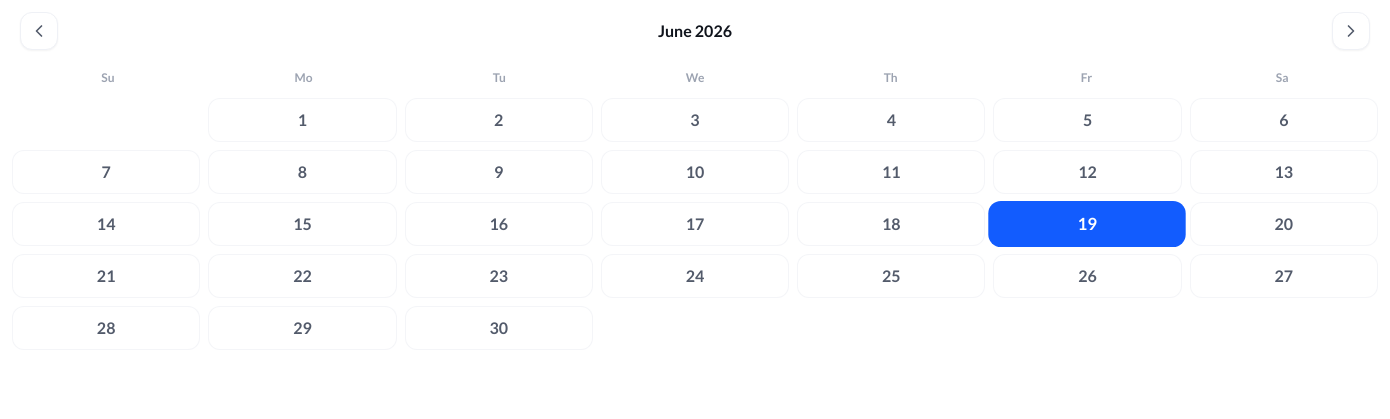
Test: MonthCalendar › crosses a year boundary backwards
The width and height of the screenshot is (1390, 419).
Click the button named "Previous month": (39, 31) [20,12,58,50]
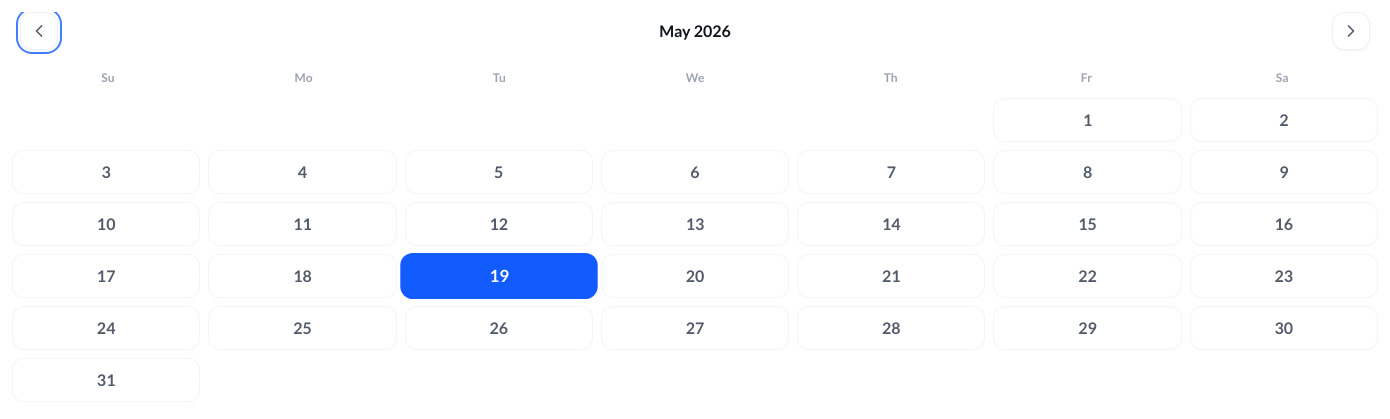
Click the button named "Previous month": (39, 31) [20,12,58,50]
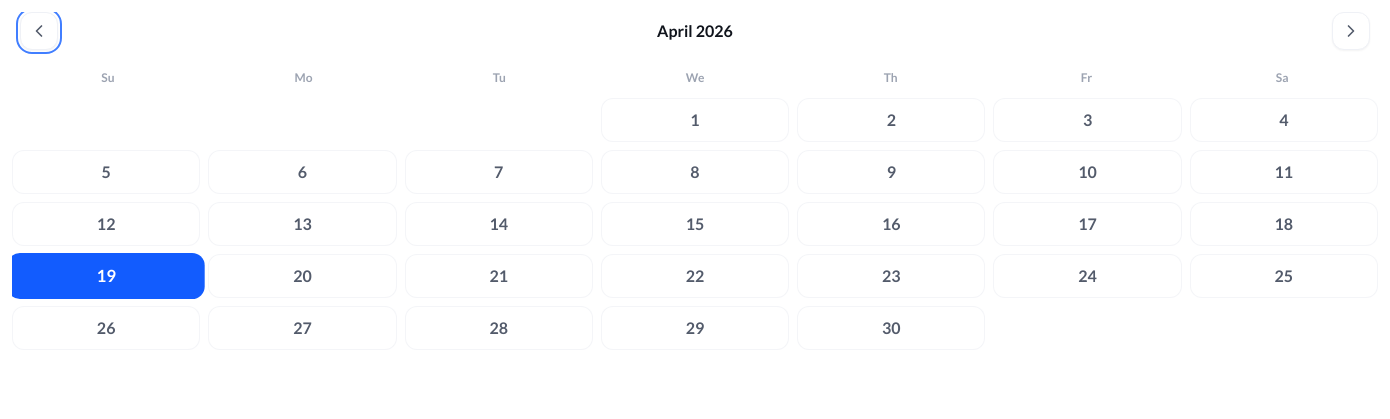
Click the button named "Previous month": (39, 31) [20,12,58,50]
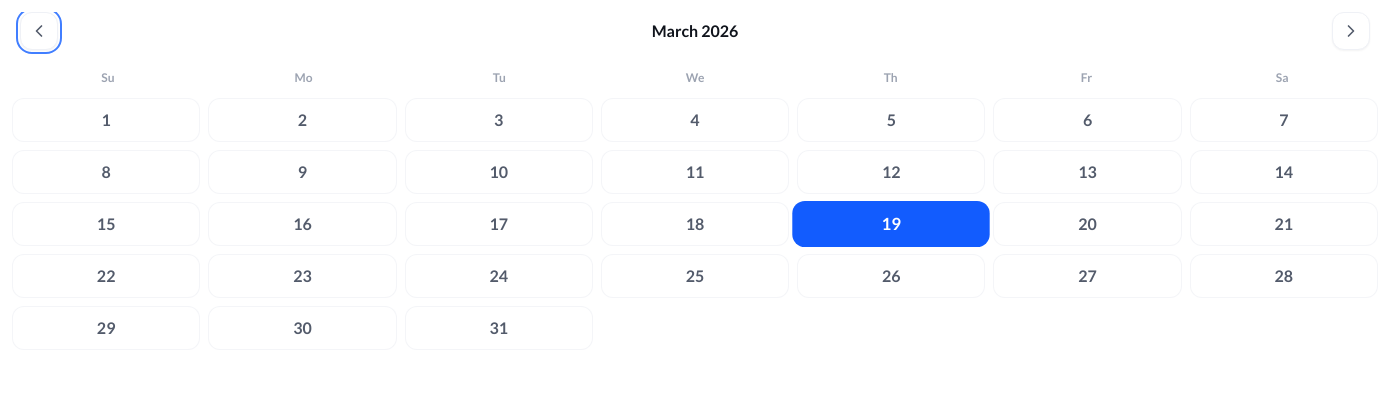
Click the button named "Previous month": (39, 31) [20,12,58,50]
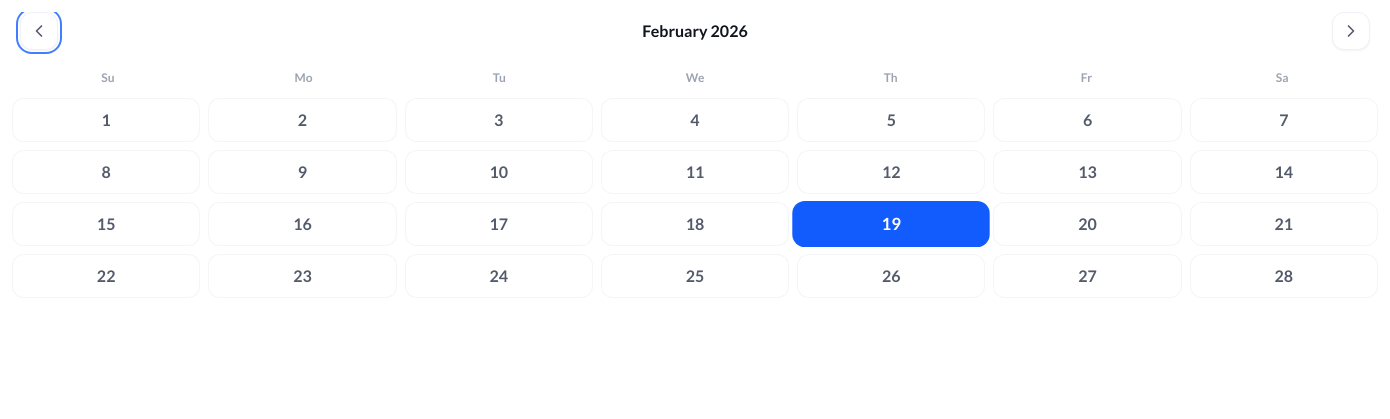
Click the button named "Previous month": (39, 31) [20,12,58,50]
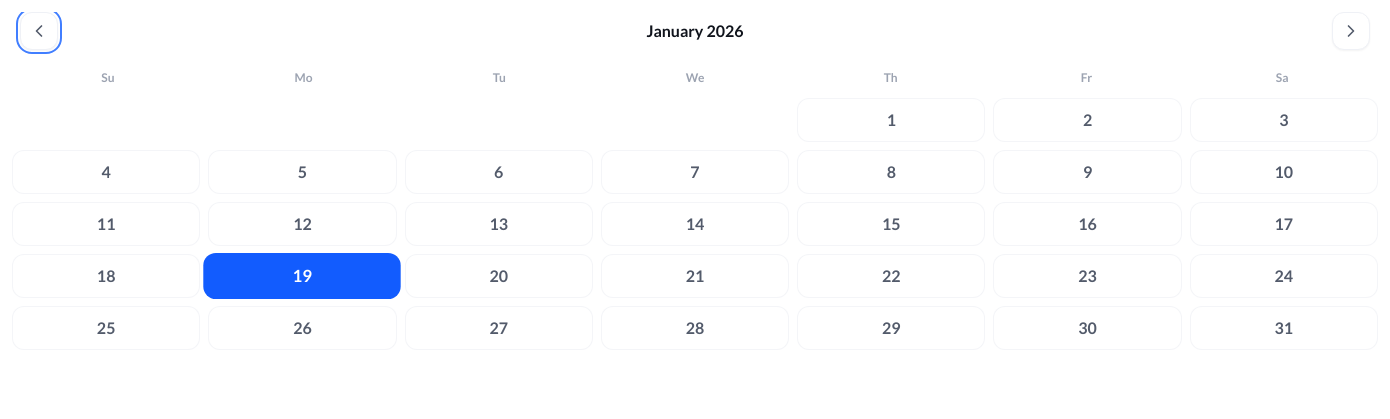
Click the button named "Previous month": (39, 31) [20,12,58,50]
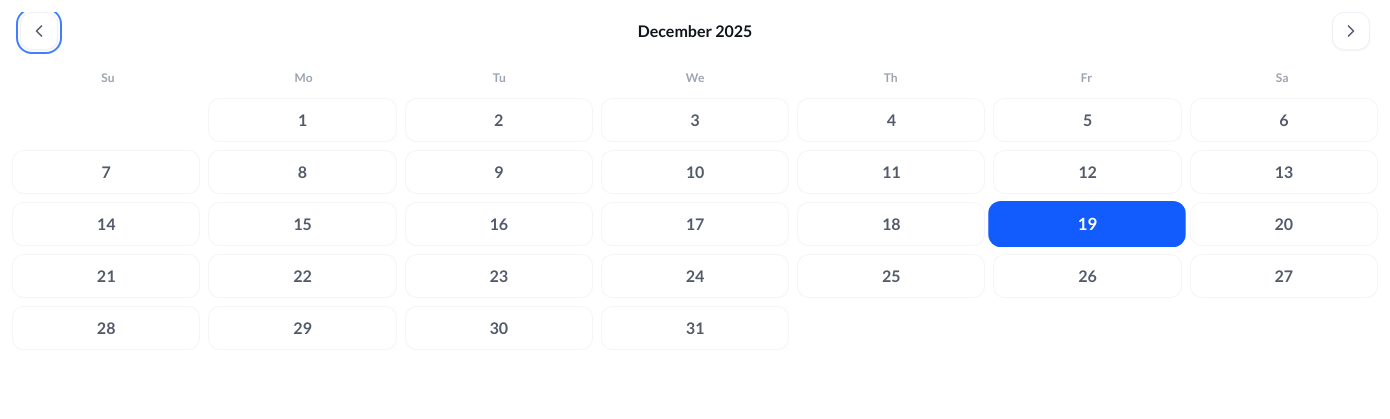
Check: the table named "December 2025" is shown
